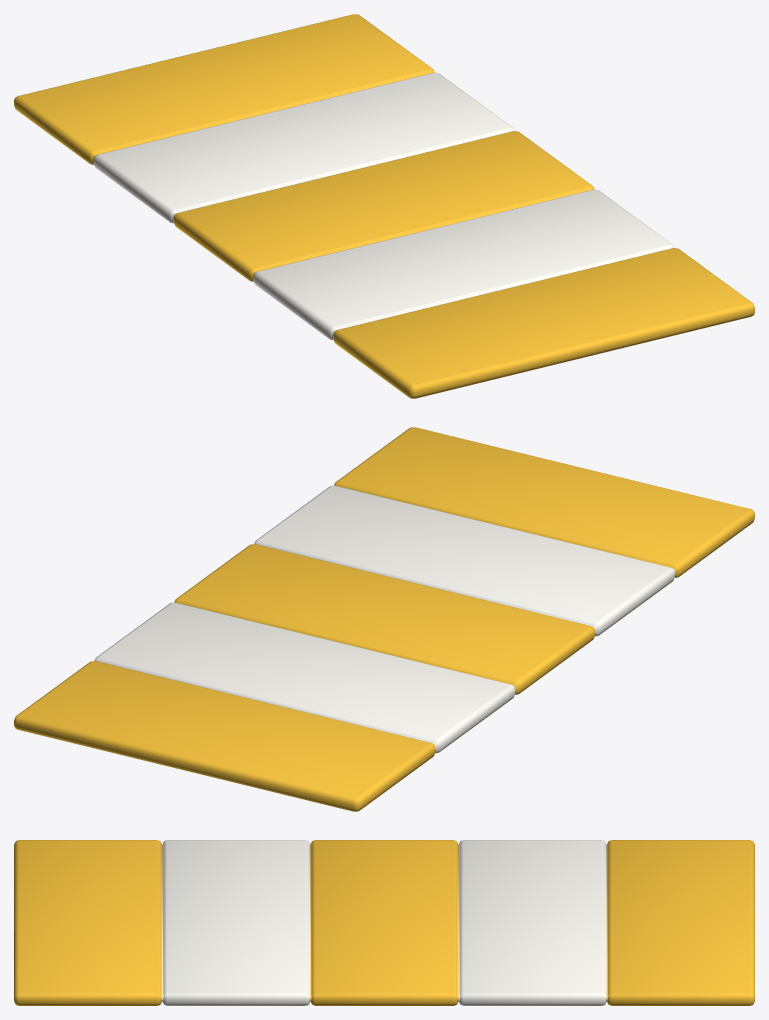
Rendered from towel.glb.
3 renders of one model, top to bottom at view 1: azimuth 30°, elevation 25°; view 2: azimuth 150°, elevation 25°; view 3: azimuth 270°, elevation 25°, orthographic. The views are drawn at different scales.
Visible parts, largest first — view 1: Towel; view 2: Towel; view 3: Towel.
Part boxes in pixels (x1,y1,x2,y2): Towel: (14,14,754,398); Towel: (14,427,754,811); Towel: (14,840,754,1005).
Bounding box in the file's own units: 0.9 × 0.035 × 1.8.
